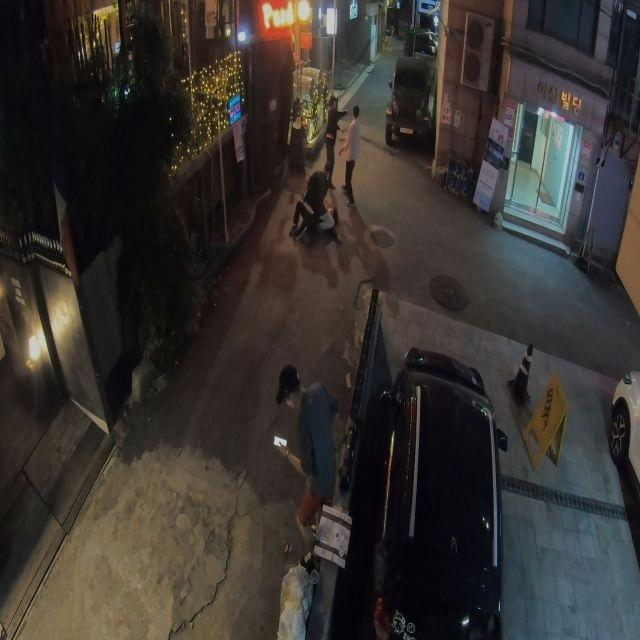fight: (292, 142, 340, 242)
non-fight: (341, 104, 362, 201)
